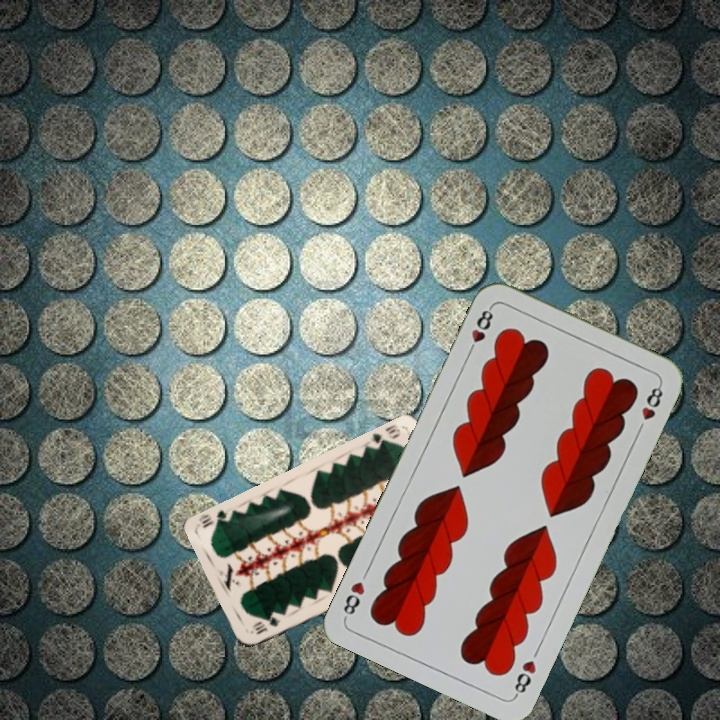G10: (368, 420, 403, 452), (248, 613, 283, 637)
H8: (463, 302, 496, 358), (510, 656, 539, 700)
